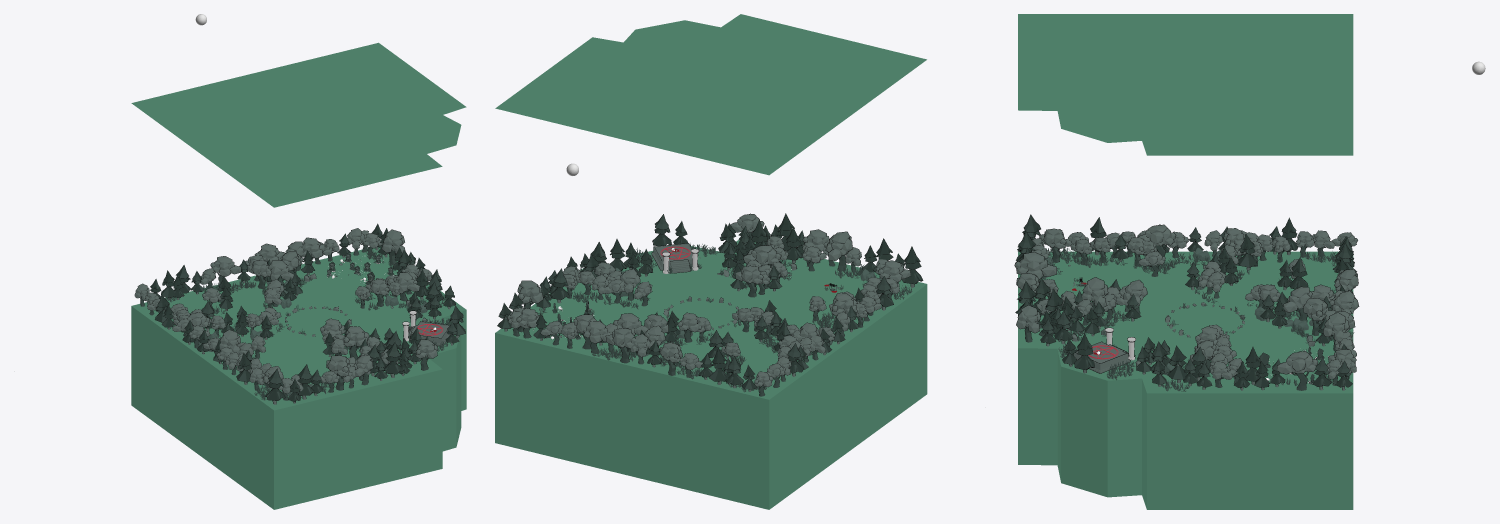
File: map.glb
3 renders of one model, left to right at view 1: azimuth 30°, elevation 25°; view 2: azimuth 150°, elevation 25°; view 3: azimuth 270°, elevation 25°, orthographic. The views are drawn at different scales.
Visible parts, largest first — view 1: Cube, Cube.004, Cube.029, Cube.013, Cube.053; view 2: Cube, Cube.004, Cube.029, Cube.053, Cube.081, Cube.013; view 3: Cube, Cube.004, Cube.029, Cube.013, Cube.053, Cube.067, Cube.038, Cube.077, Cube.022, Cube.016, Cube.076, Cube.002.
Boxes of the visible parts, <box> form: Cube: <box>131,247,466,509</box>; Cube.004: <box>131,42,466,207</box>; Cube.029: <box>408,321,450,346</box>; Cube.013: <box>381,229,405,265</box>; Cube.053: <box>326,355,350,390</box>; Cube: <box>495,240,927,509</box>; Cube.004: <box>495,14,926,175</box>; Cube.029: <box>651,243,698,273</box>; Cube.053: <box>825,231,852,271</box>; Cube.081: <box>605,328,636,363</box>; Cube.013: <box>517,280,543,308</box>; Cube: <box>1018,251,1353,509</box>; Cube.004: <box>1018,14,1353,155</box>; Cube.029: <box>1073,341,1130,373</box>; Cube.013: <box>1277,351,1318,390</box>; Cube.053: <box>1014,252,1056,279</box>; Cube.067: <box>1138,224,1176,261</box>; Cube.038: <box>1016,305,1040,342</box>; Cube.077: <box>1283,286,1313,322</box>; Cube.022: <box>1082,277,1108,310</box>; Cube.016: <box>1323,312,1349,351</box>; Cube.076: <box>1303,298,1328,335</box>; Cube.002: <box>1039,228,1066,262</box>.
Bounding box in the file's own units: 82.04 × 62.19 × 70.28.
